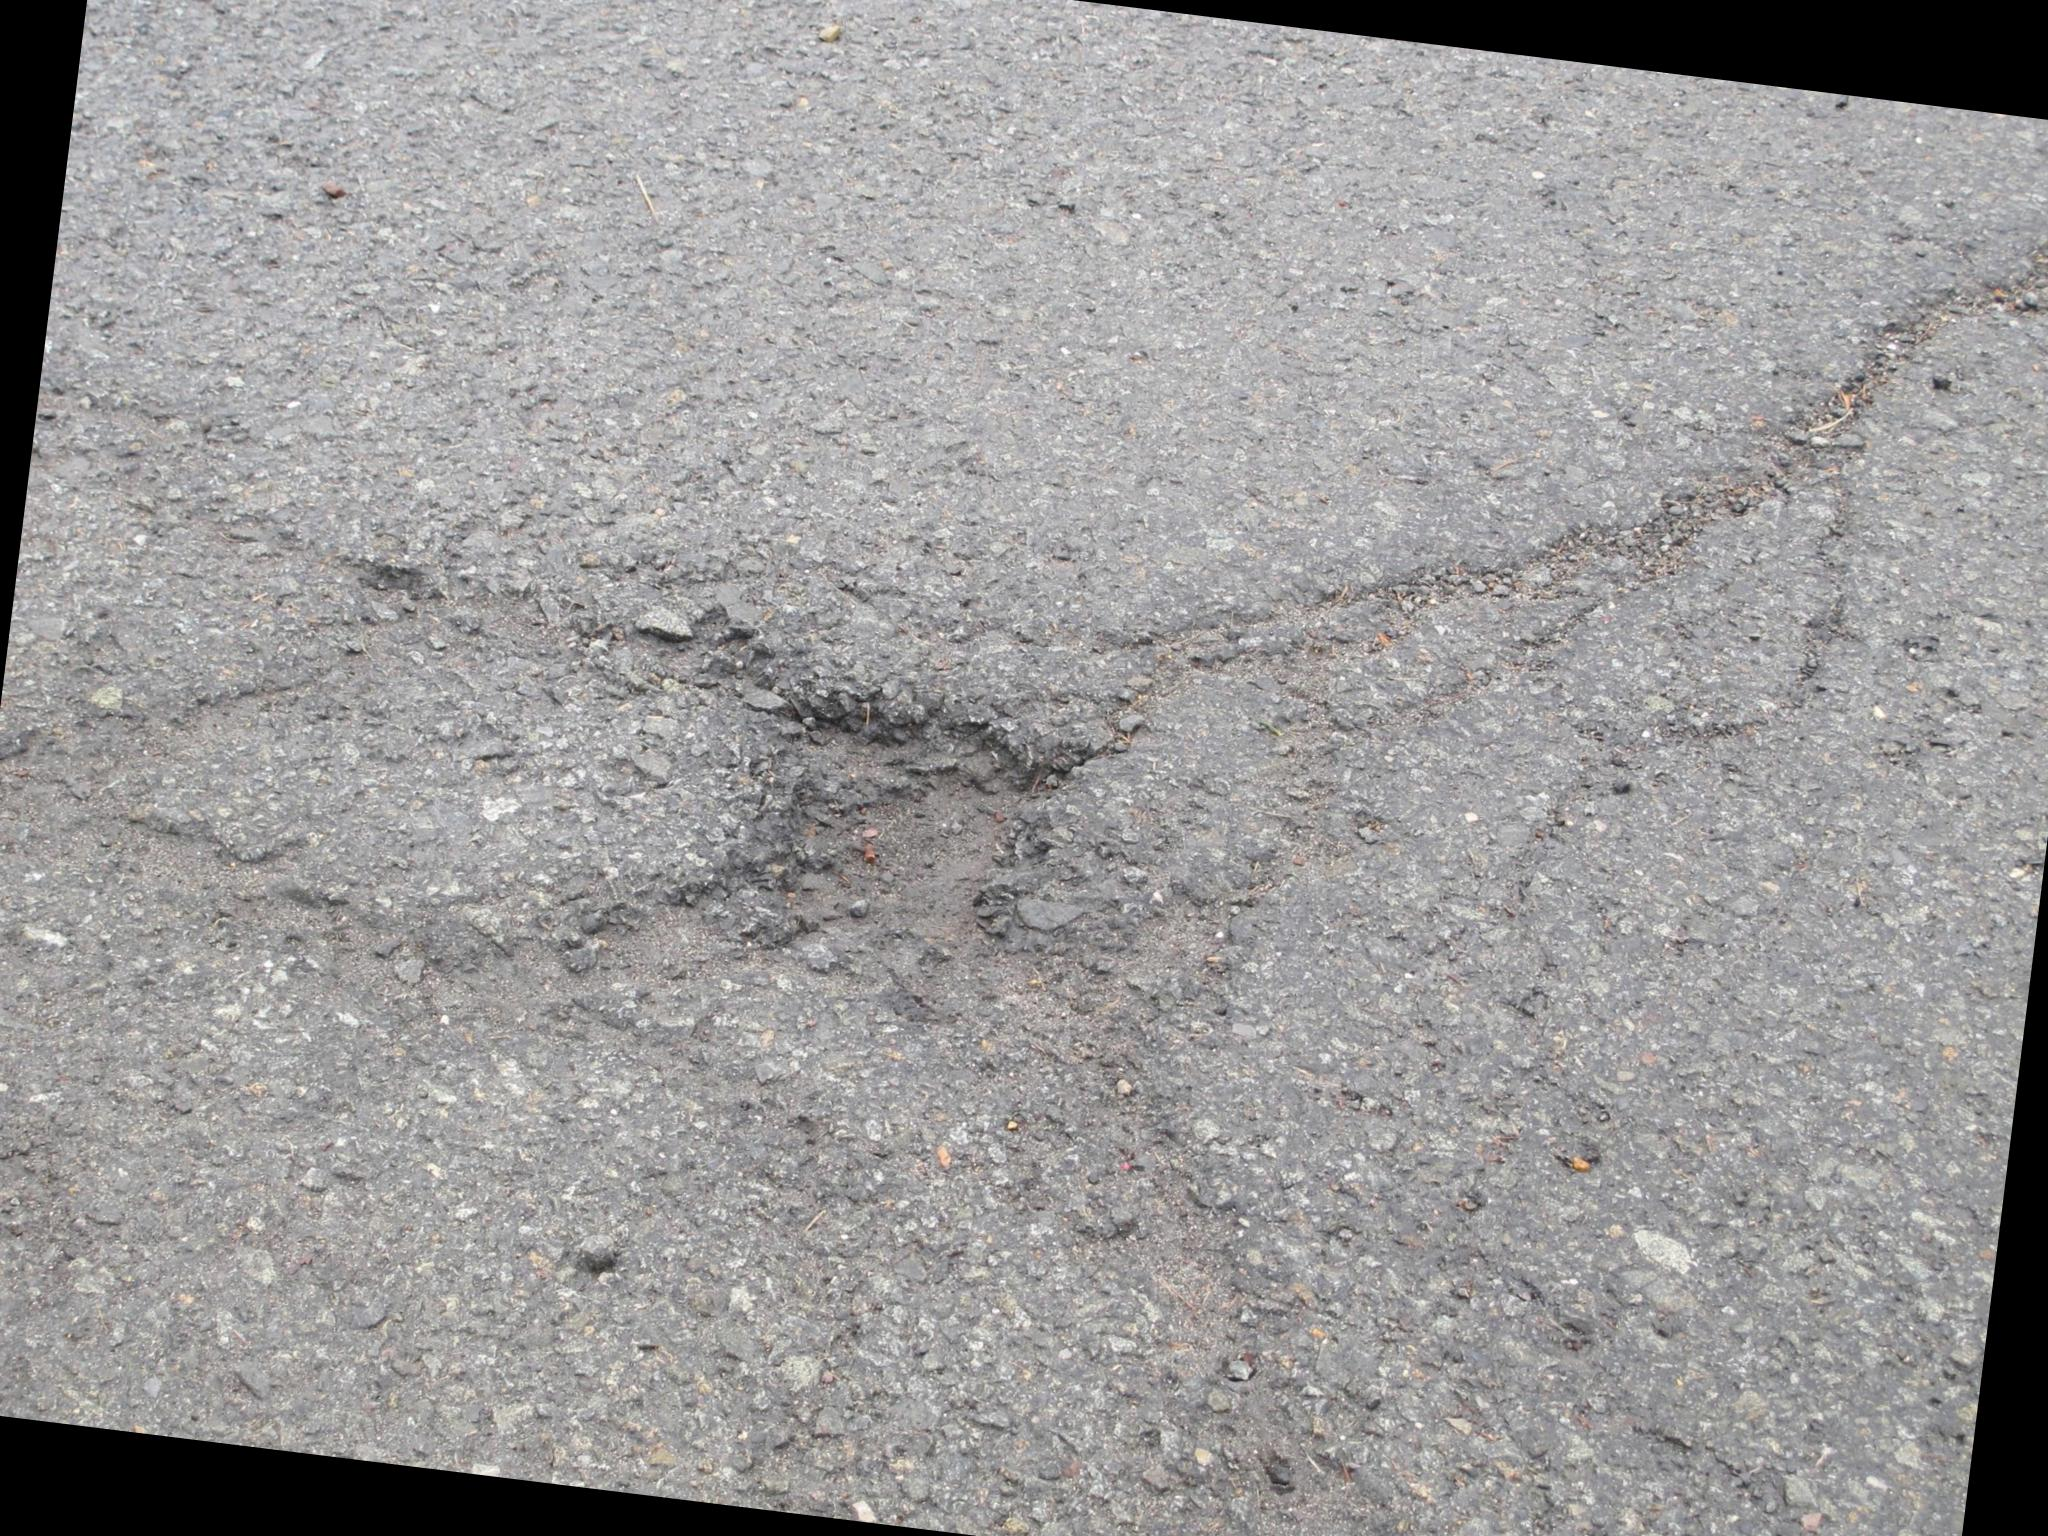pothole: (184, 419, 1569, 1315)
